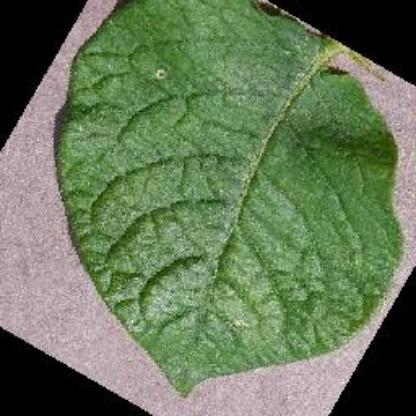Healthy-plant: (50, 0, 408, 398)
